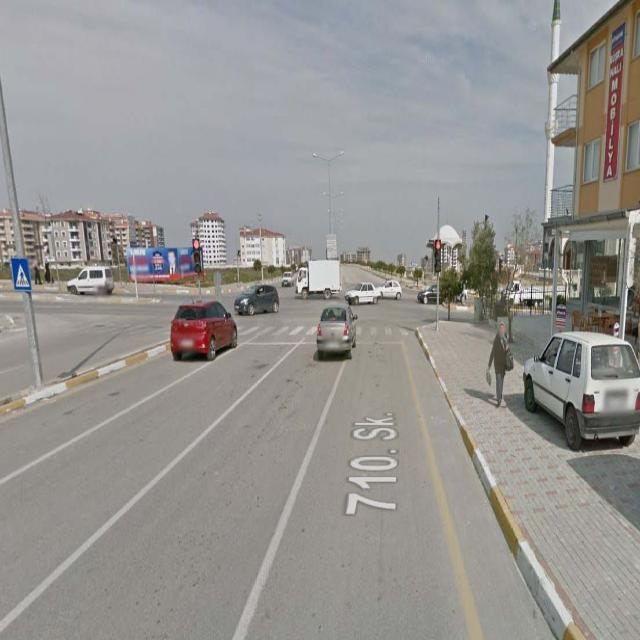kirmizi: (192, 239, 201, 272), (435, 239, 441, 275)
